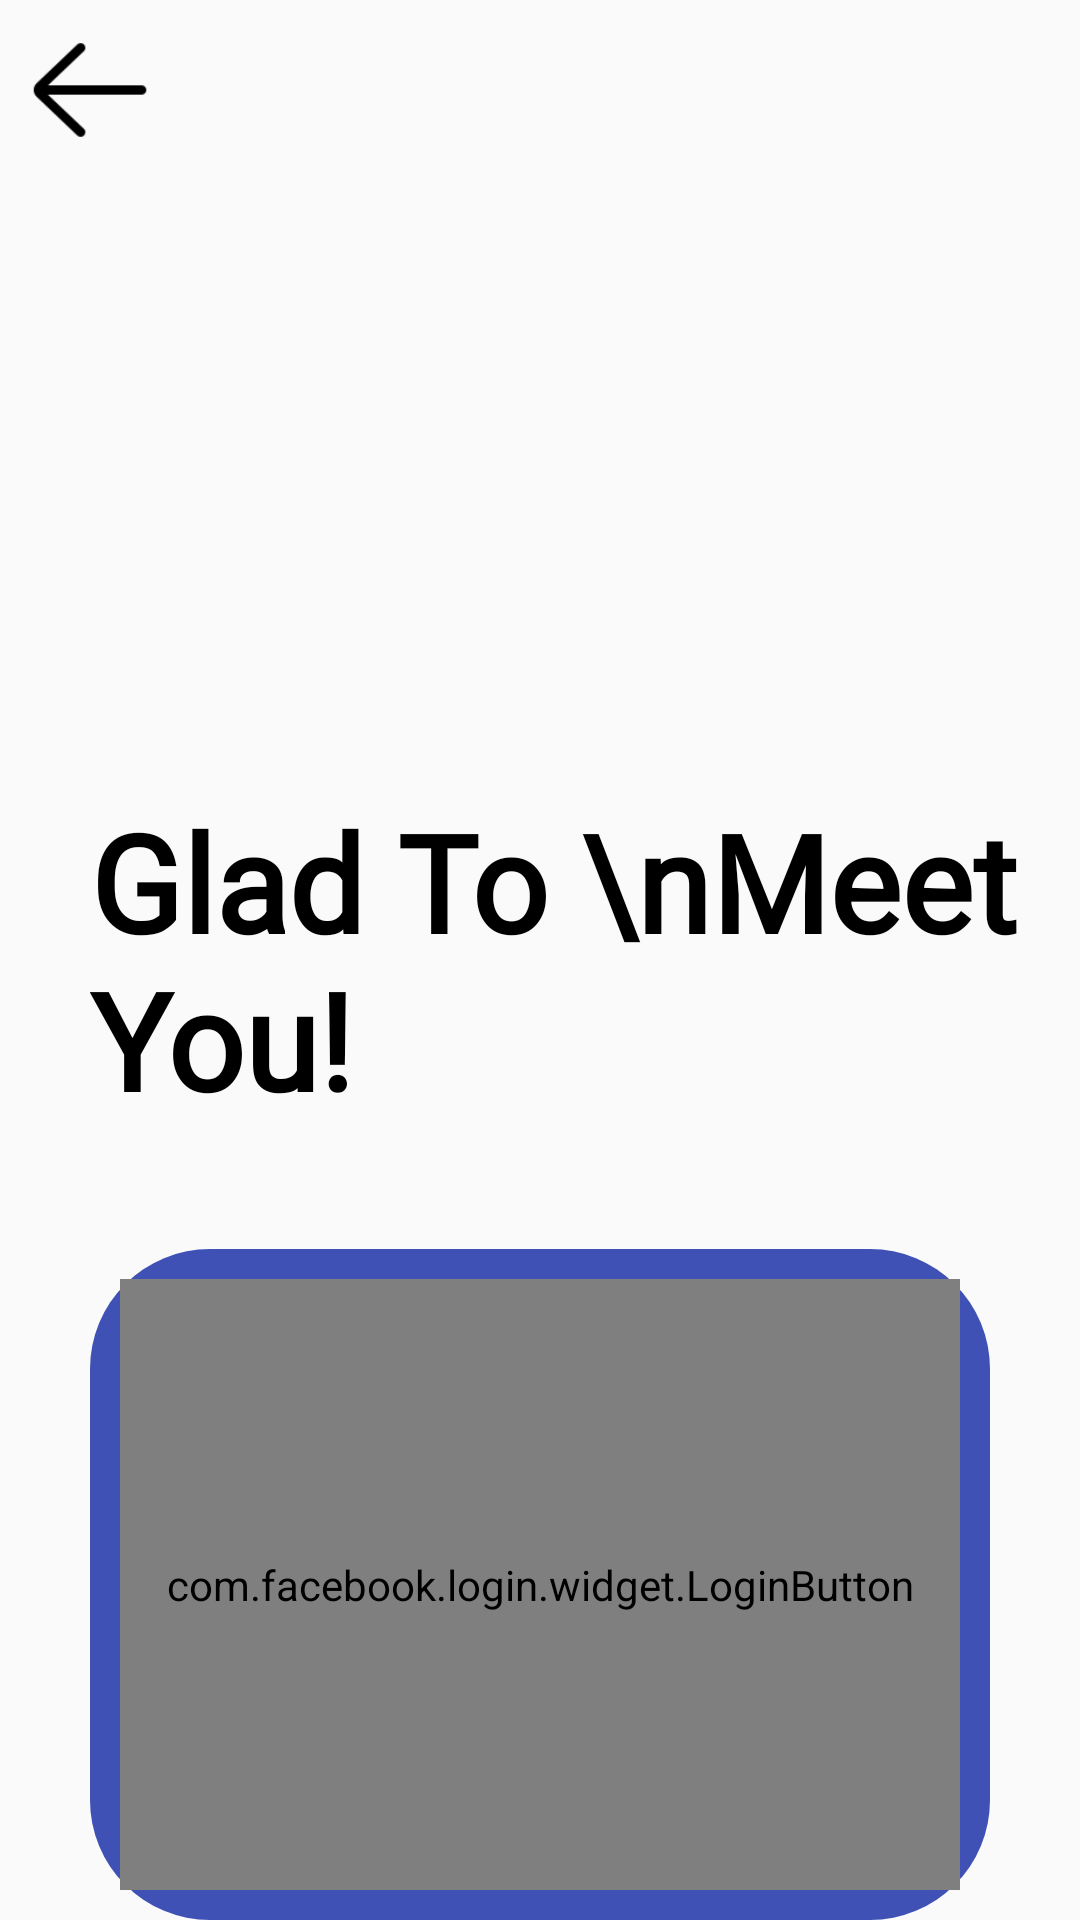

Screen size 1080 × 1920. Icon name, then its box in pixels as (x1, y1, x2, y2):
left arrow: (33, 43, 147, 137)
